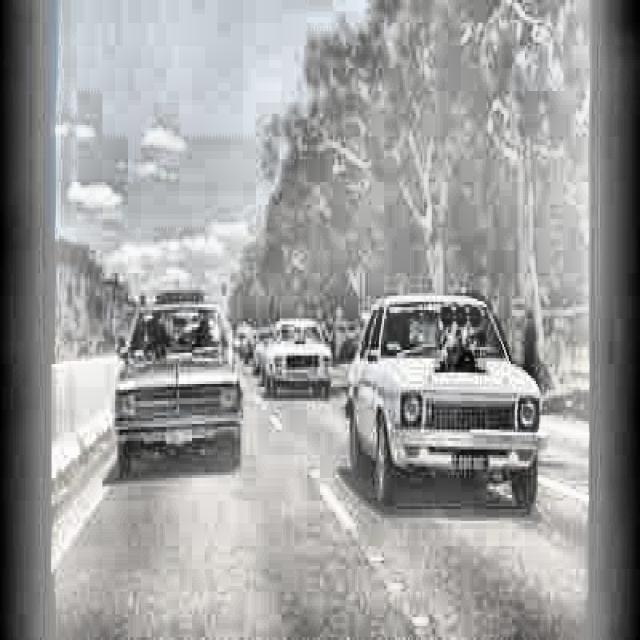license_plate: (451, 449, 490, 478), (164, 426, 195, 448)
